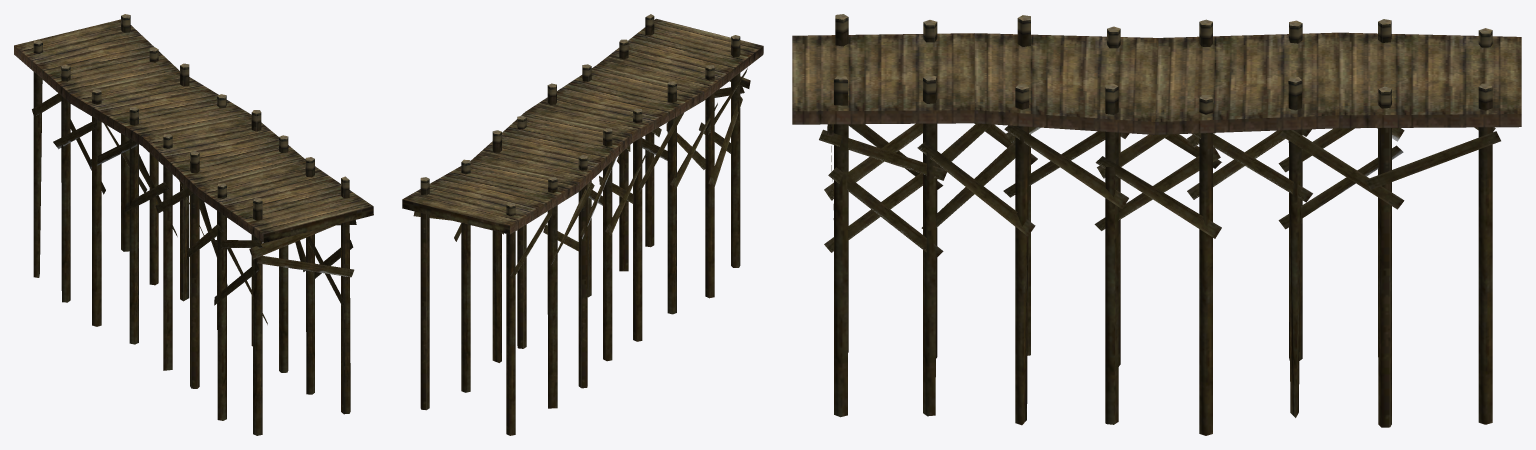
The model's file is nsm-general_obj_01_3_lod_01.fbx.
3 renders of one model, left to right at view 1: azimuth 30°, elevation 25°; view 2: azimuth 150°, elevation 25°; view 3: azimuth 270°, elevation 25°, orthographic. The views are drawn at different scales.
Visible parts, largest first — view 1: Mesh01; view 2: Mesh01; view 3: Mesh01.
Part boxes in pixels (x1,y1,x2,y2): Mesh01: (14,14,373,435); Mesh01: (402,14,763,435); Mesh01: (792,14,1521,435).
Bounding box in the file's own units: 5.44 × 10.65 × 20.
